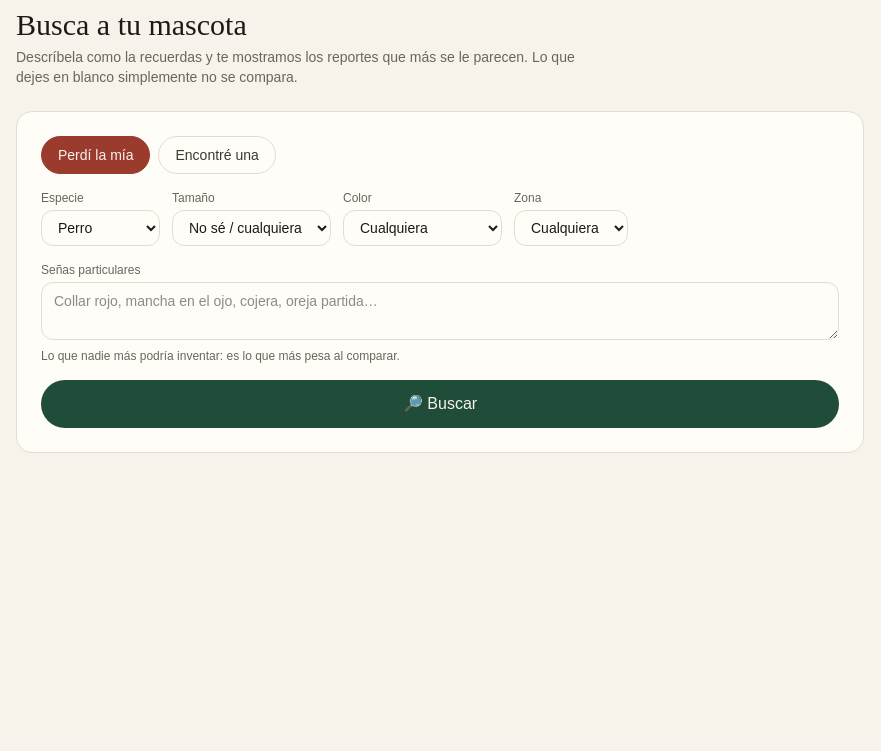
Test: BuscarMascota › por defecto busca entre las encontradas con los criterios elegidos
The image size is (881, 751).
Select "Negro" in the dropdown labelled "Color" at (422, 228), box [343, 210, 502, 246]
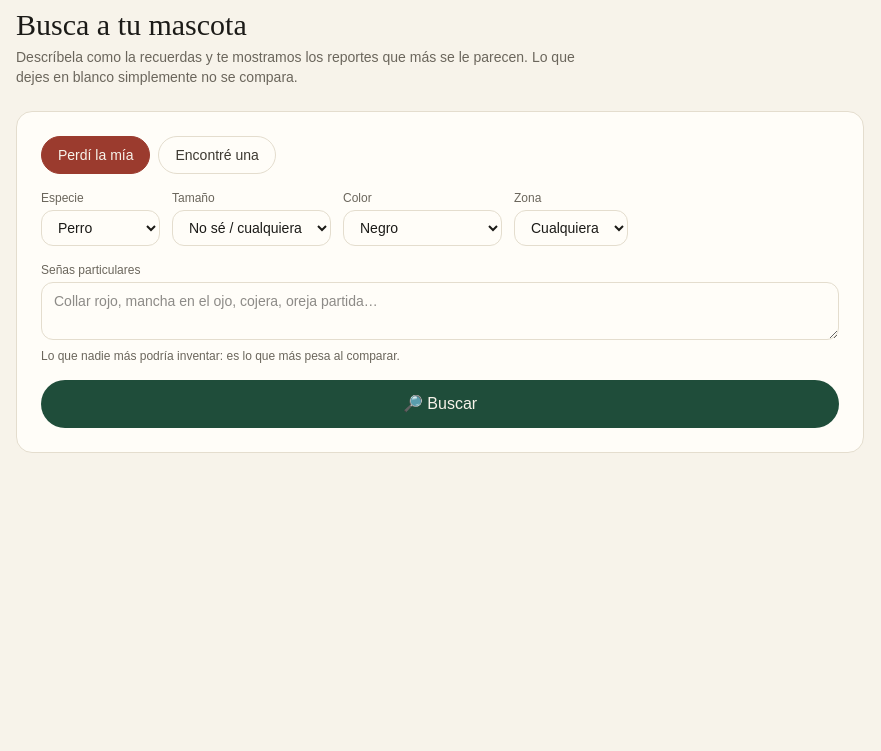
Select "Cali" in the dropdown labelled "Zona" at (571, 228), box [514, 210, 628, 246]
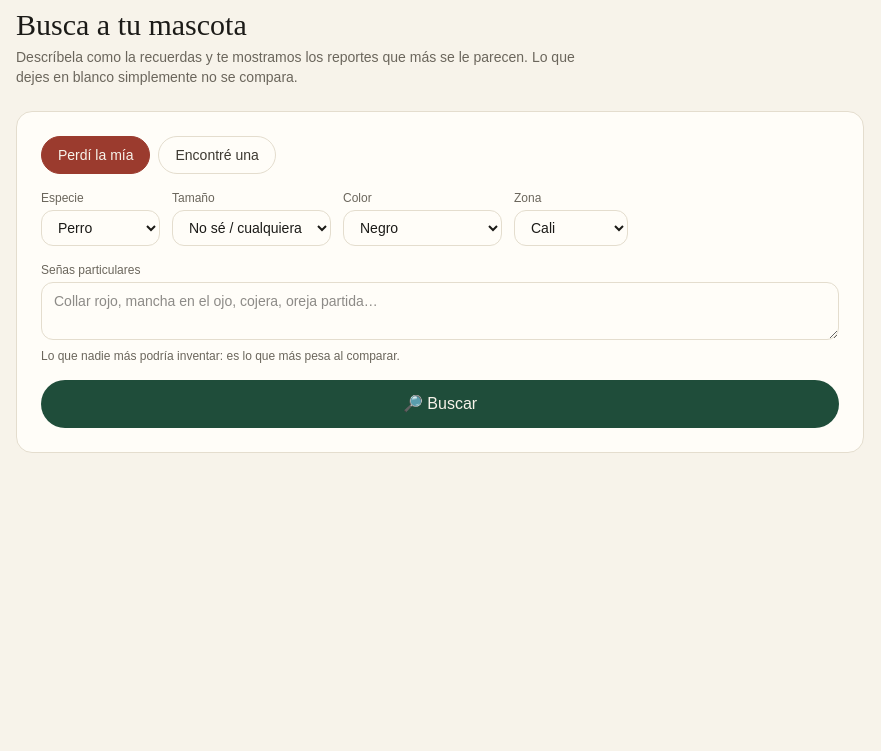
Type "collar rojo" into the text box labelled "Señas particulares" at (440, 311), box [41, 282, 839, 340]
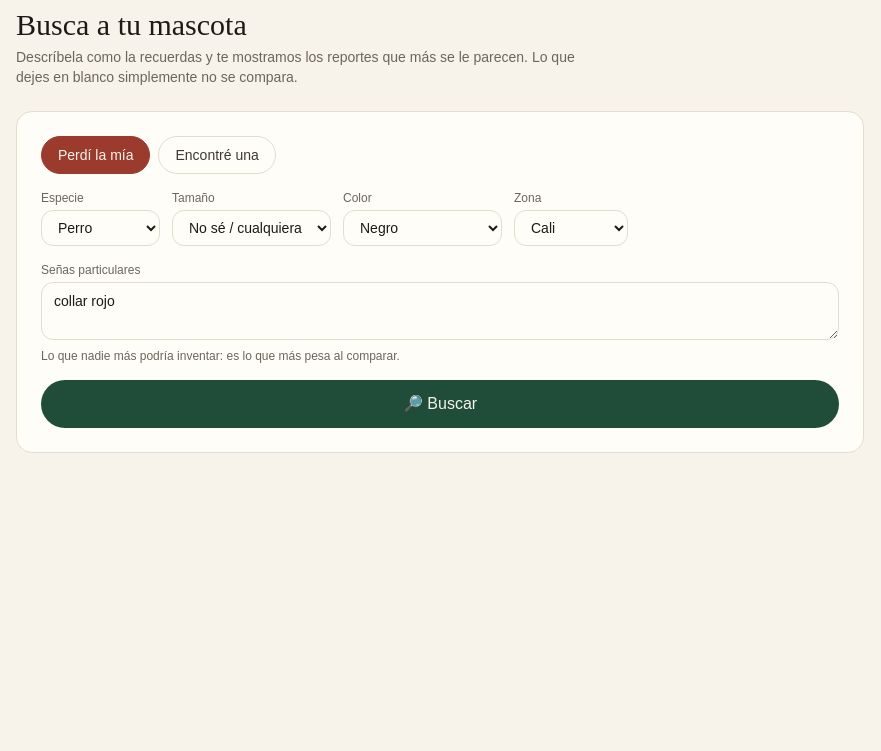
Click the button "🔎 Buscar" at (440, 404), box [41, 380, 839, 428]
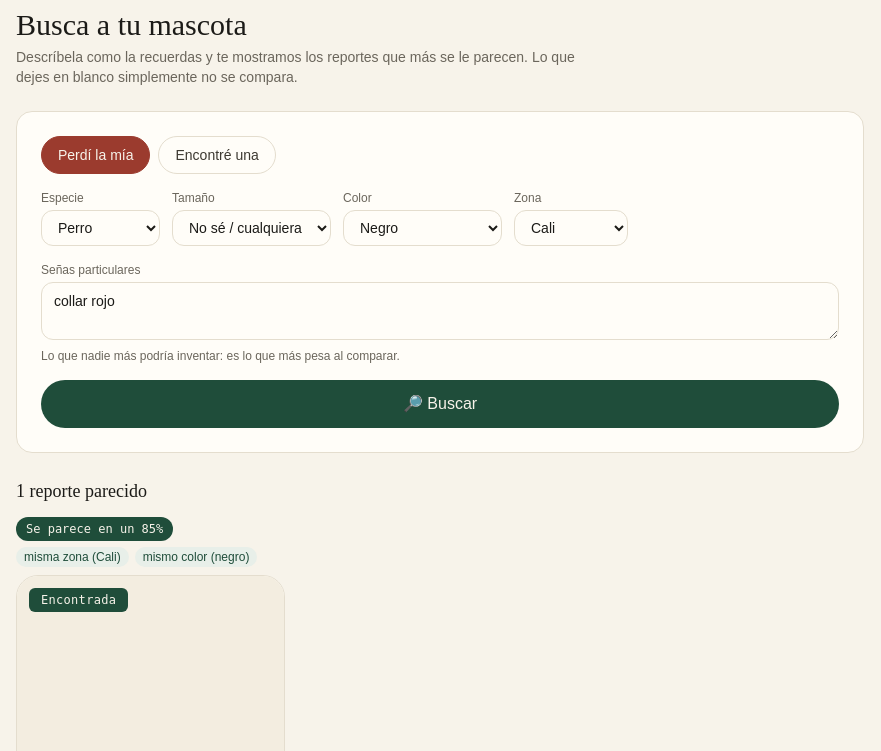
Expected: the text "Se parece en un 85%" is shown, [16, 517, 173, 541]
Expected: the text "misma zona (Cali)" is shown, [16, 547, 129, 567]
